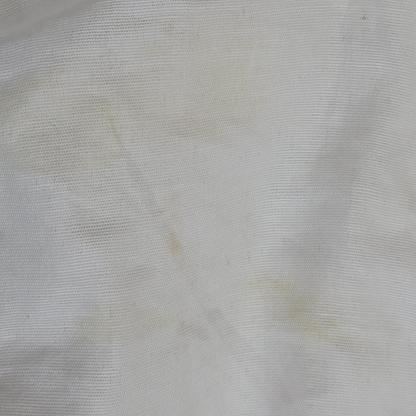spot: (264, 276, 318, 329), (166, 231, 184, 261)
